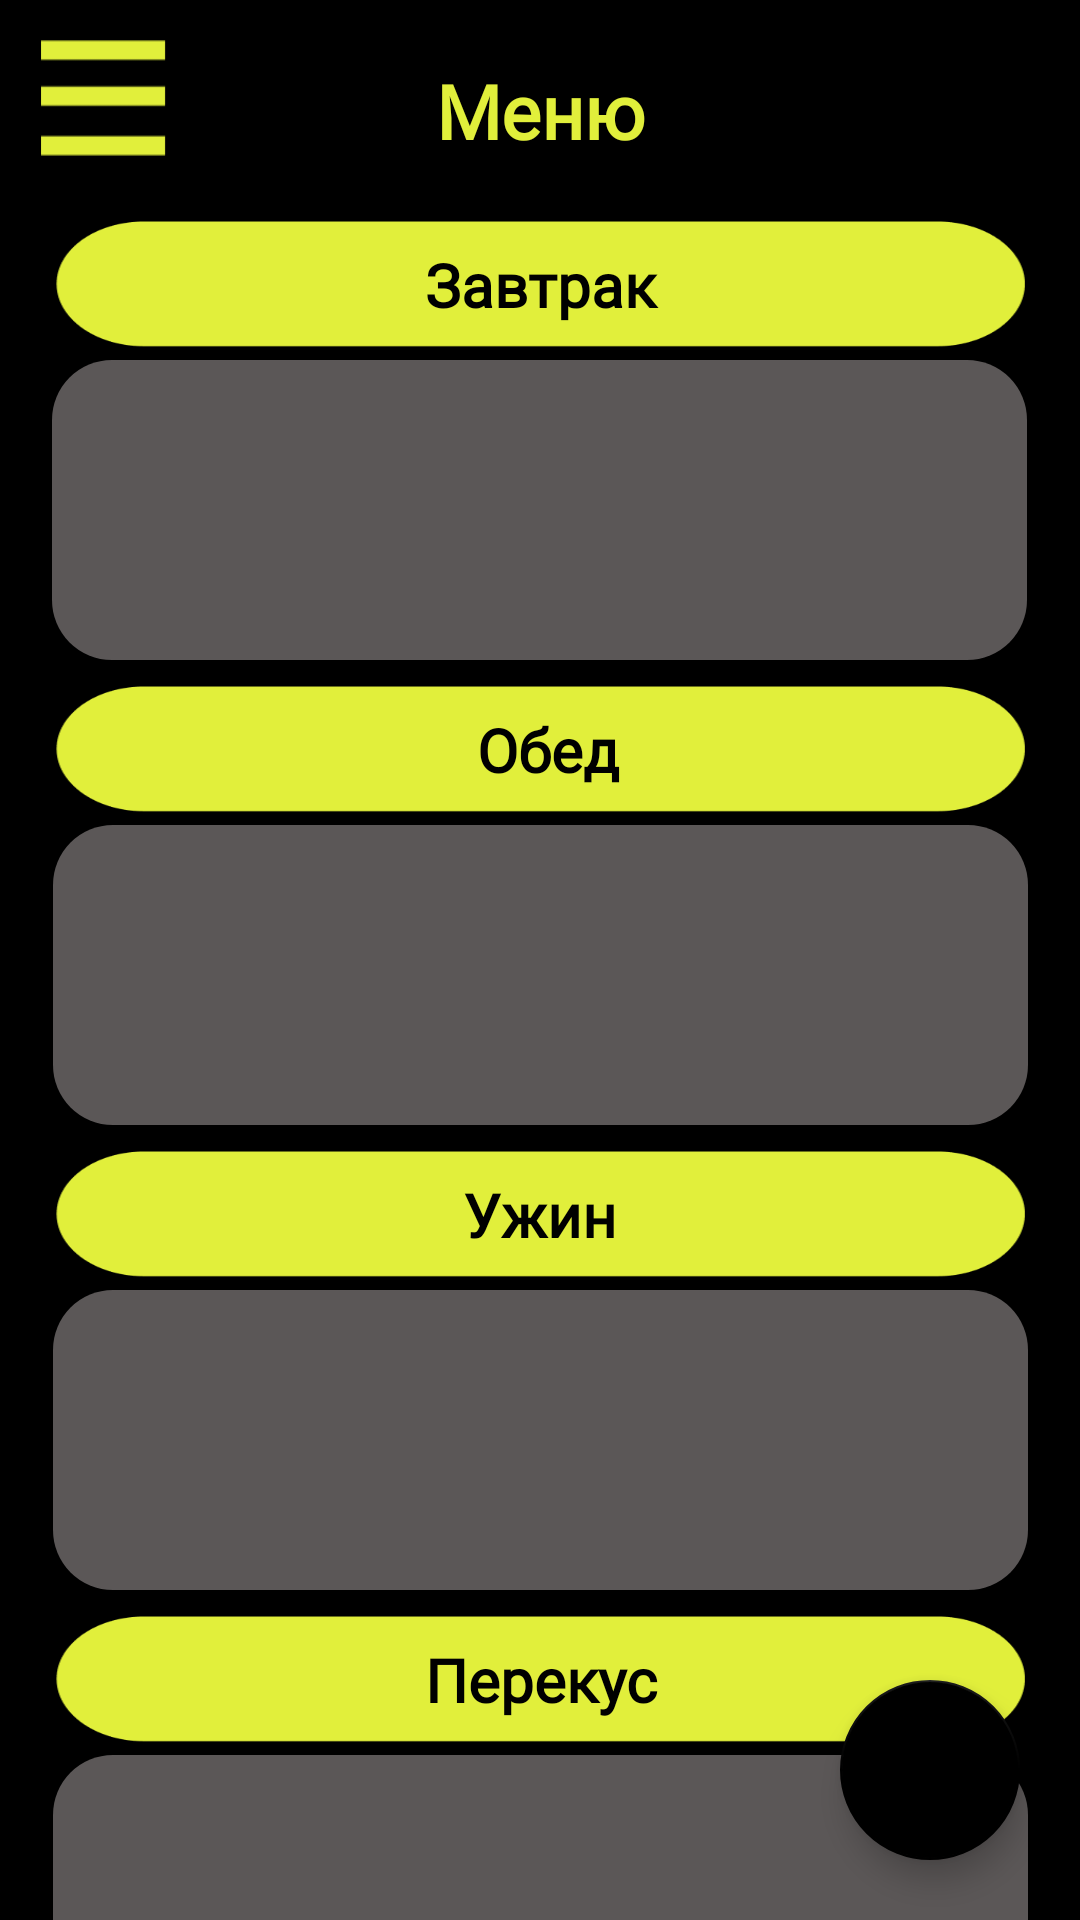

Screen size 1080 x 1920. Icon name, then its box in pixels as {"x1": x1, "y1": y1, "x2": x2, "y2": y2}:
menu: {"x1": 41, "y1": 40, "x2": 166, "y2": 156}
